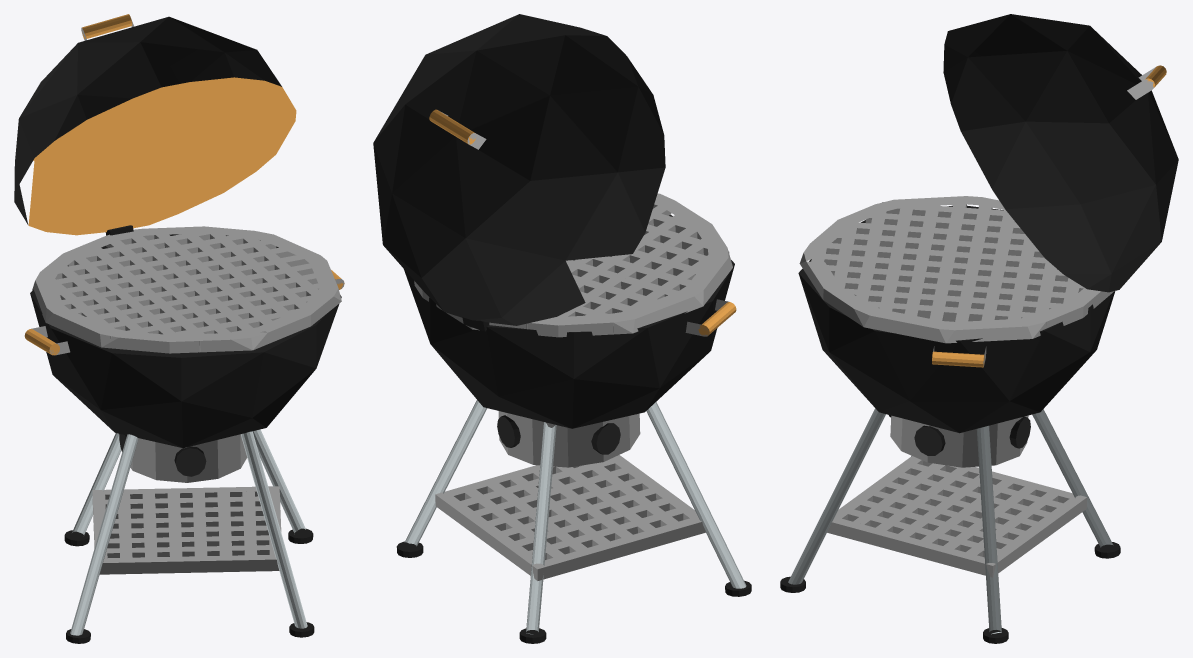
Rendered from cleangrill.glb.
3 renders of one model, left to right at view 1: azimuth 30°, elevation 25°; view 2: azimuth 150°, elevation 25°; view 3: azimuth 270°, elevation 25°, orthographic. The views are drawn at different scales.
Visible parts, largest first — view 1: Node; view 2: Node; view 3: Node.
Part boxes in pixels (bbox=[...]): Node: bbox=[14, 14, 344, 643]; Node: bbox=[373, 14, 751, 643]; Node: bbox=[780, 14, 1178, 643].
Size of the model in its own units: 0.5487 by 0.9429 by 0.6178.
